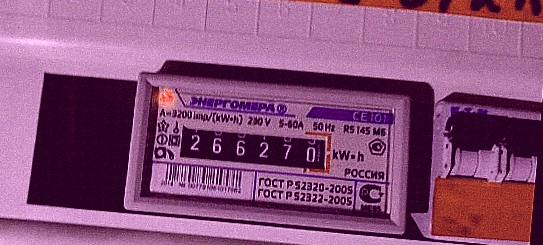0: (303, 142, 316, 163)
2: (186, 130, 202, 152), (256, 138, 270, 159)
6: (209, 134, 223, 155), (233, 136, 247, 156)
7: (279, 140, 293, 160)
screen: (165, 111, 342, 183)
